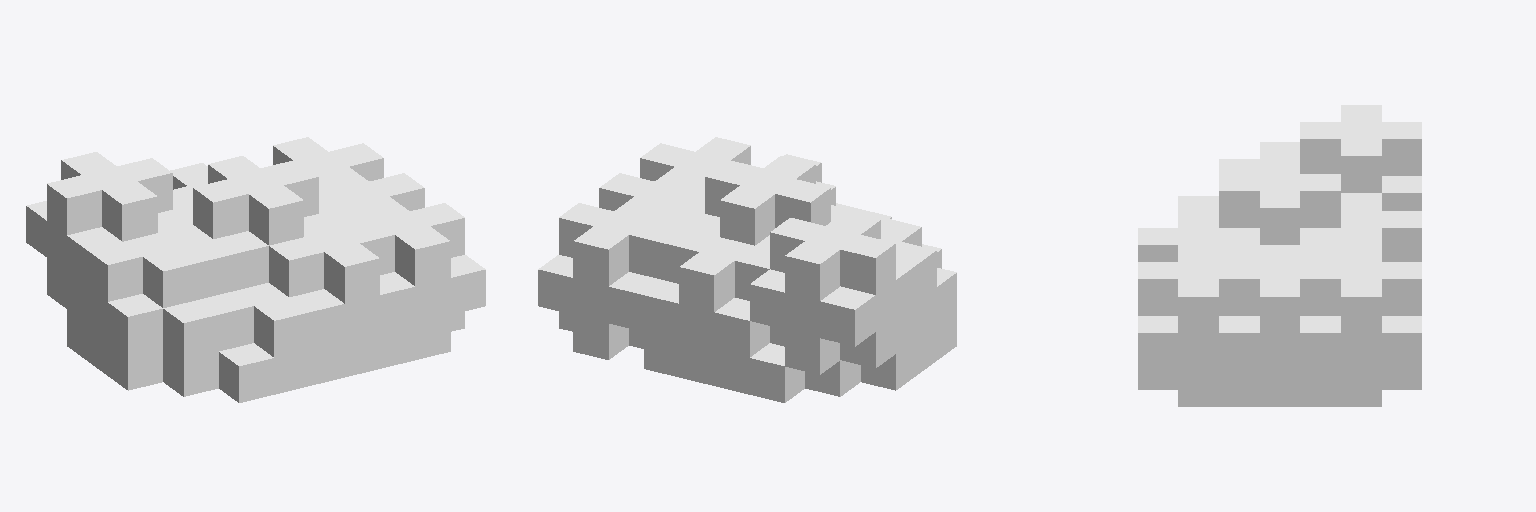
Rendered from ObsidianDeposit_S.obj.
The picture shows the model from 3 angles: view 1: azimuth 30°, elevation 25°; view 2: azimuth 150°, elevation 25°; view 3: azimuth 270°, elevation 25°; orthographic projection.
Visible parts, largest first — view 1: ObsidianDeposit_S; view 2: ObsidianDeposit_S; view 3: ObsidianDeposit_S.
Part boxes in pixels (x1,y1,x2,y2): ObsidianDeposit_S: (26, 137, 485, 402); ObsidianDeposit_S: (538, 137, 956, 402); ObsidianDeposit_S: (1138, 105, 1421, 406).
Size of the model in its own units: 0.9 by 0.4 by 0.7.